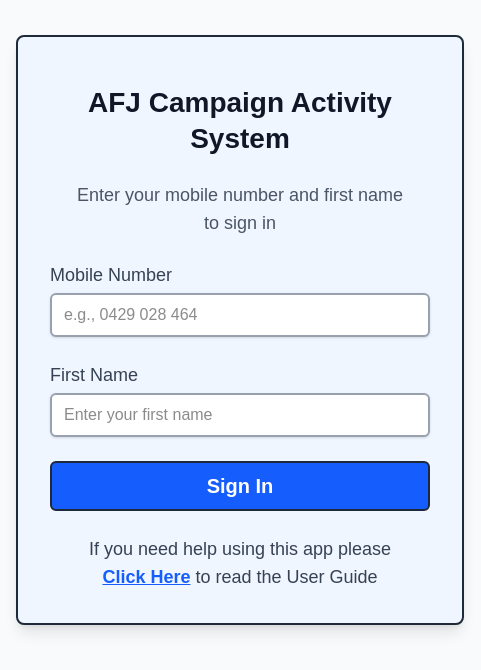
LoginPage — plain leaders and two-factor authentication › signs a plain leader straight in with no email or 2FA prompt at a normal sign-in
In the field with placeholder "e.g., 0429 028 464": (240, 315) [50,293,430,337], type "0400000000"
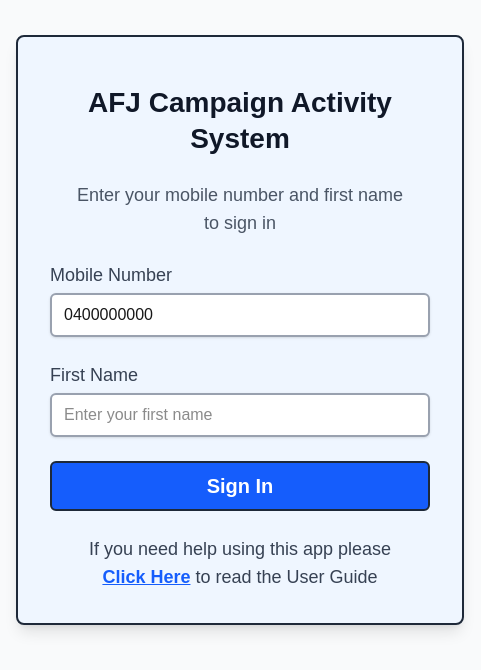
In the field with placeholder "Enter your first name": (240, 415) [50,393,430,437], type "Jack"
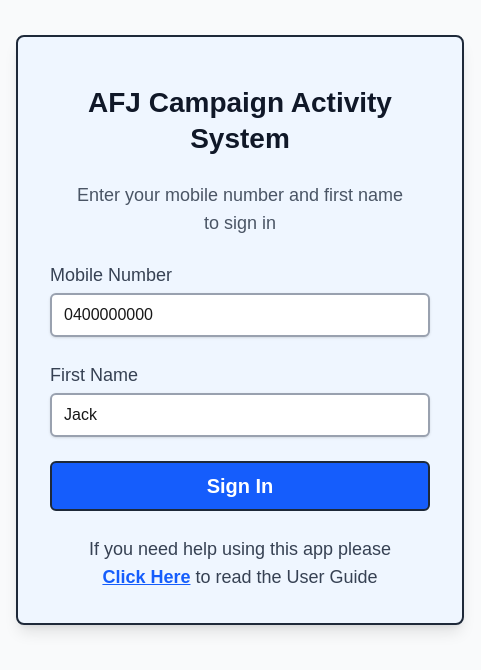
Click the button "Sign In": (240, 486) [50,461,430,511]
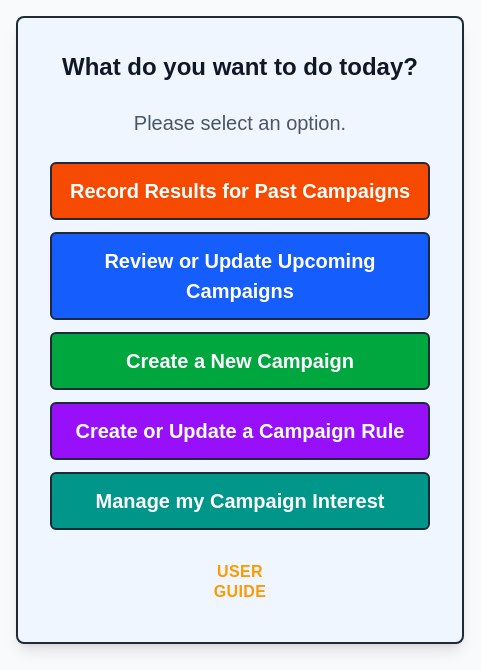
Result: the heading "What do you want to do today?" is shown at [50,50,430,84]
